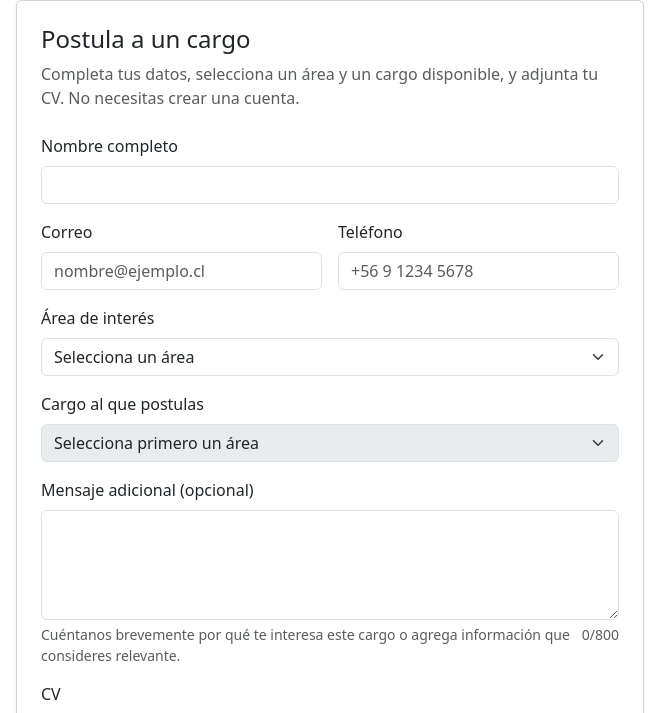
Scenario: Postular (formulario público) › catálogo de cargos › al cambiar de área limpia el cargo seleccionado anteriormente
Select "Operaciones" in the dropdown labelled "Área de interés": coordinates (330, 357) [41,338,619,376]
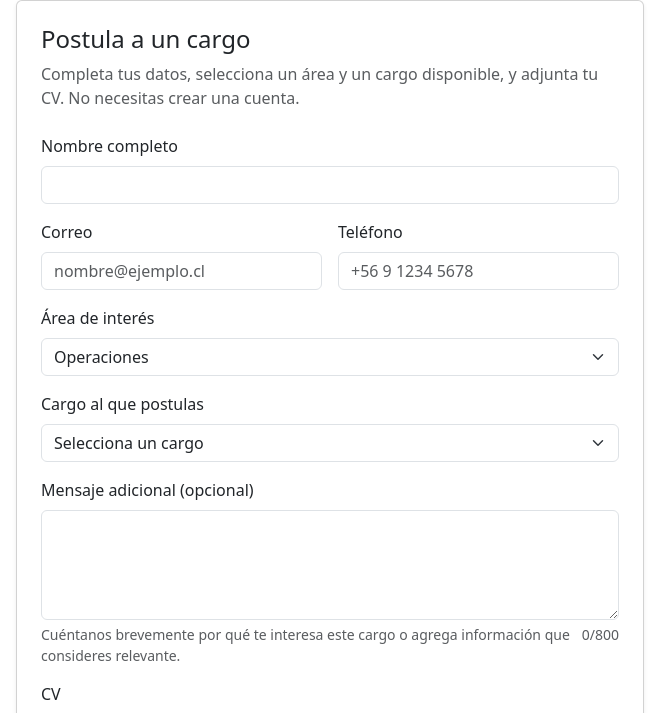
Select "Operador de Planta" in the dropdown labelled "Cargo al que postulas": coordinates (330, 443) [41,424,619,462]
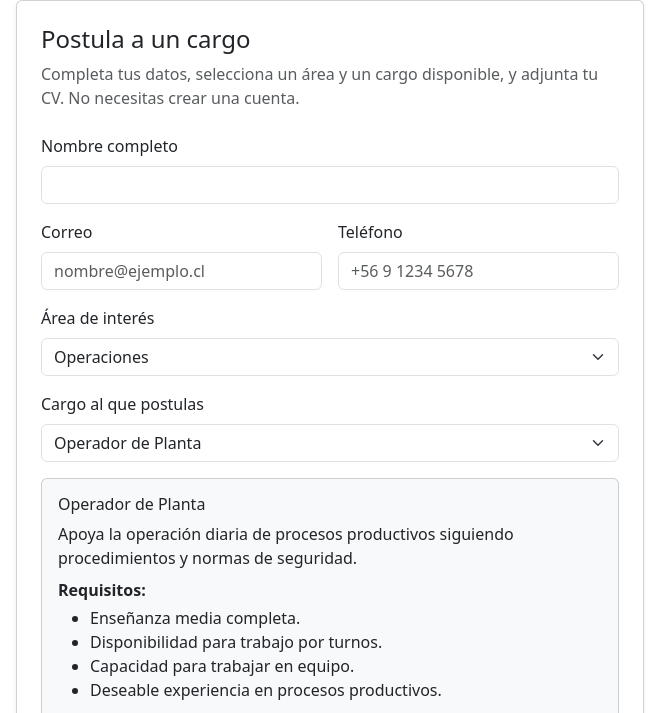
Select "Ventas" in the dropdown labelled "Área de interés": coordinates (330, 357) [41,338,619,376]
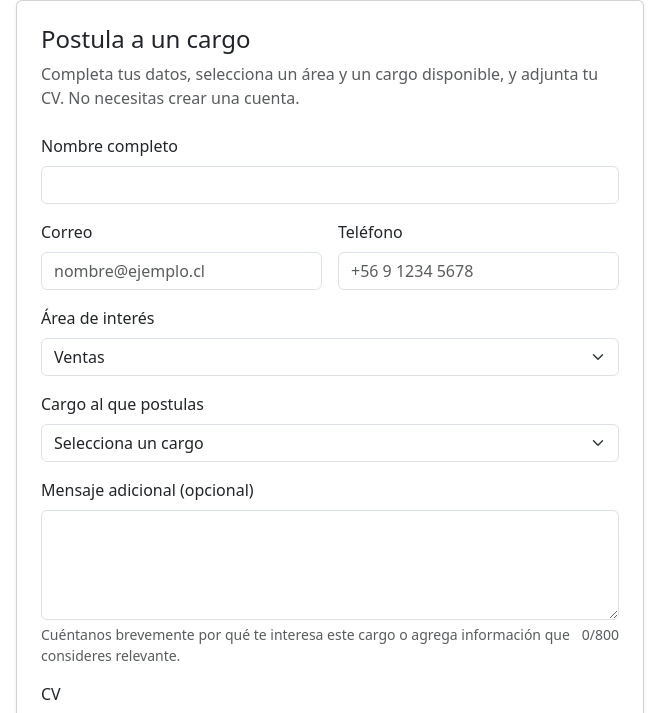
Expected: the heading "Operador de Planta" is gone
